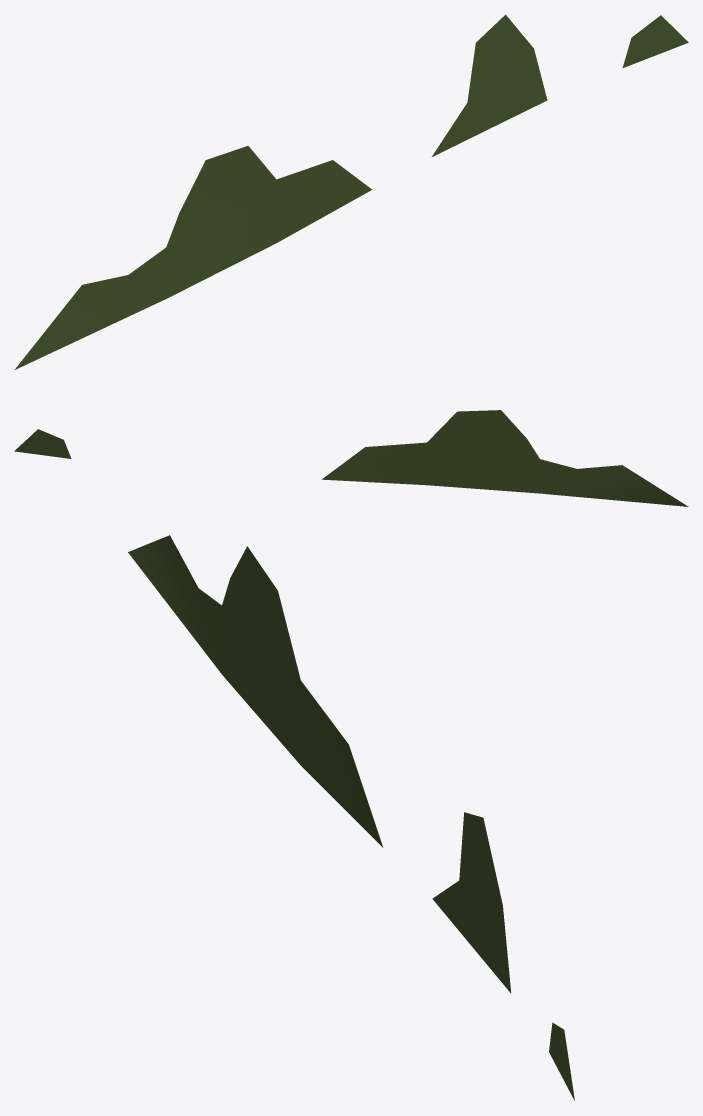
File: SM_Env_Background_Island_01.glb
3 renders of one model, top to bottom at view 1: azimuth 30°, elevation 25°; view 2: azimuth 150°, elevation 25°; view 3: azimuth 270°, elevation 25°, orthographic. The views are drawn at different scales.
Parts seen in each view (by area): view 1: SM_Env_Background_Island_01; view 2: SM_Env_Background_Island_01; view 3: SM_Env_Background_Island_01.
Boxes of the visible parts, bbox=[...] form: SM_Env_Background_Island_01: bbox=[14, 14, 688, 369]; SM_Env_Background_Island_01: bbox=[14, 410, 688, 506]; SM_Env_Background_Island_01: bbox=[128, 535, 574, 1100].
Bounding box in the file's own units: 0.4568 × 0.0622 × 0.1571.
